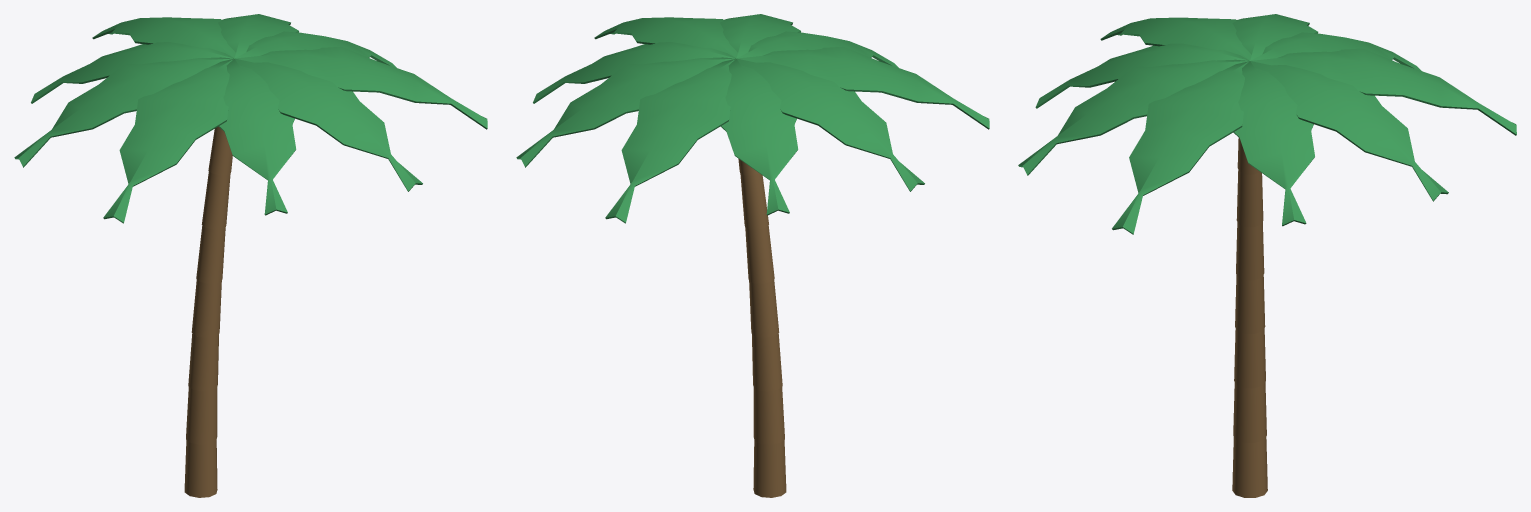
Rendered from palm.glb.
3 renders of one model, left to right at view 1: azimuth 30°, elevation 25°; view 2: azimuth 150°, elevation 25°; view 3: azimuth 270°, elevation 25°, orthographic. The views are drawn at different scales.
Visible parts, largest first — view 1: Cone; view 2: Cone; view 3: Cone.
Boxes of the visible parts, box(x1,y1,x2,y2) form: Cone: box(14, 14, 487, 497); Cone: box(516, 14, 989, 497); Cone: box(1018, 14, 1516, 497).
Size of the model in its own units: 6.53 by 6.72 by 6.74.
